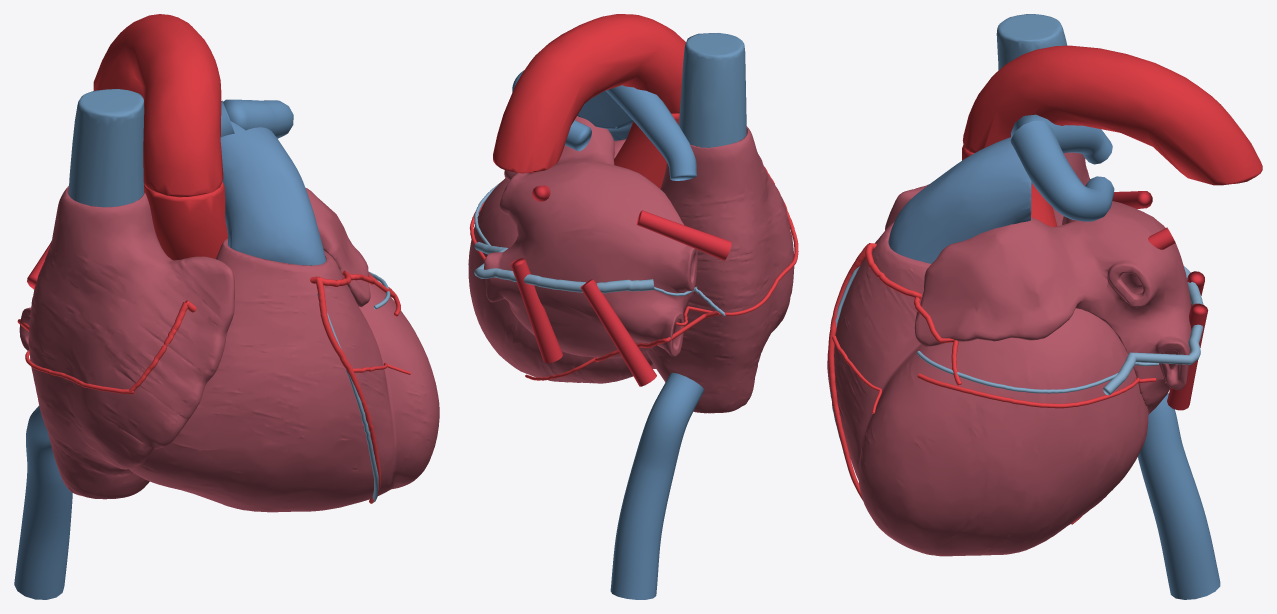
File: coracao-e-vasos-foco.glb
3 views of the same model, side by side, from view 1: azimuth 30°, elevation 25°; view 2: azimuth 150°, elevation 25°; view 3: azimuth 270°, elevation 25° (orthographic). The views are drawn at different scales.
Parts seen in each view (by area): view 1: coracao_miocardio, coracao_aorta, coracao_tronco_pulmonar, coracao_cava_superior, cava_inferior, arteria_pulmonar_E, arteria_coronaria_descendente_anterior_LAD, veia_coronaria_grande, arteria_coronaria_direita_AV, arteria_coronaria_direita_posterior; view 2: coracao_miocardio, coracao_aorta, cava_inferior, coracao_cava_superior, arteria_pulmonar_D, veia_pulmonar_inferior_D, seio_coronario, veia_pulmonar_inferior_E, veia_pulmonar_superior_D, coracao_tronco_pulmonar, arteria_coronaria_descendente_posterior_PDA, arteria_coronaria_direita_posterior (+1 smaller); view 3: coracao_miocardio, coracao_aorta, coracao_tronco_pulmonar, cava_inferior, arteria_pulmonar_E, coracao_cava_superior, arteria_pulmonar_D, seio_coronario, arteria_coronaria_descendente_anterior_LAD, arteria_coronaria_circunflexa_lateral, arteria_coronaria_circunflexa, veia_pulmonar_inferior_E (+2 smaller).
Part boxes in pixels (x1,y1,x2,y2): coracao_miocardio: (19, 186, 439, 512); coracao_aorta: (93, 14, 227, 260); coracao_tronco_pulmonar: (220, 121, 326, 265); coracao_cava_superior: (68, 89, 144, 207); cava_inferior: (14, 405, 72, 599); arteria_pulmonar_E: (223, 99, 293, 138); arteria_coronaria_descendente_anterior_LAD: (316, 278, 380, 503); veia_coronaria_grande: (317, 293, 378, 502); arteria_coronaria_direita_AV: (129, 302, 187, 391); arteria_coronaria_direita_posterior: (25, 350, 134, 394); coracao_miocardio: (468, 116, 794, 413); coracao_aorta: (493, 14, 685, 188); cava_inferior: (610, 372, 703, 599); coracao_cava_superior: (678, 33, 746, 147); arteria_pulmonar_D: (605, 85, 696, 180); veia_pulmonar_inferior_D: (580, 279, 656, 386); seio_coronario: (474, 242, 654, 293); veia_pulmonar_inferior_E: (510, 258, 562, 363); veia_pulmonar_superior_D: (636, 210, 731, 260); coracao_tronco_pulmonar: (577, 91, 633, 140); arteria_coronaria_descendente_posterior_PDA: (525, 310, 718, 380); arteria_coronaria_direita_posterior: (675, 236, 798, 326); coracao_miocardio: (827, 152, 1191, 556); coracao_aorta: (962, 45, 1262, 226); coracao_tronco_pulmonar: (888, 137, 1031, 263); cava_inferior: (1138, 393, 1220, 599); arteria_pulmonar_E: (1010, 121, 1114, 221); coracao_cava_superior: (996, 14, 1067, 70); arteria_pulmonar_D: (1010, 114, 1112, 164); seio_coronario: (1103, 266, 1203, 395); arteria_coronaria_descendente_anterior_LAD: (828, 244, 868, 499); arteria_coronaria_circunflexa_lateral: (917, 373, 1156, 408); arteria_coronaria_circunflexa: (865, 244, 961, 385); veia_pulmonar_inferior_E: (1167, 303, 1208, 410).
Bounding box in the file's own units: 0.1167 × 0.1876 × 0.1268.
